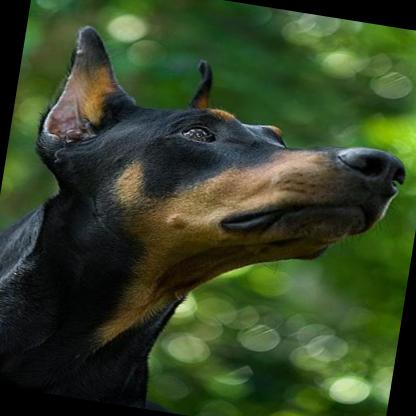Doberman: (0, 15, 416, 416)
